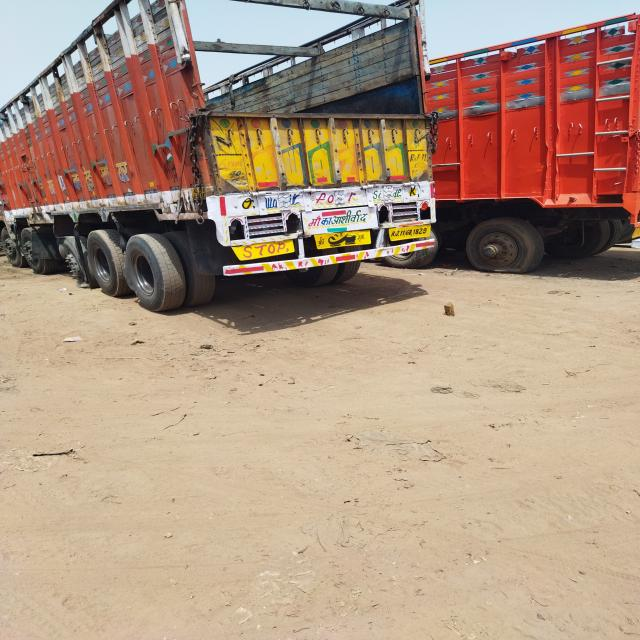Number_Plate_Detected: (388, 224, 433, 243)
